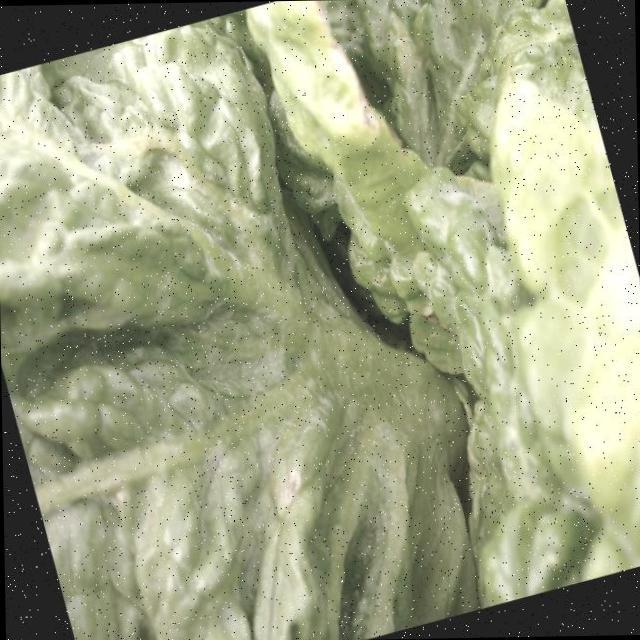Powdery_Mildew: (69, 280, 409, 624)
